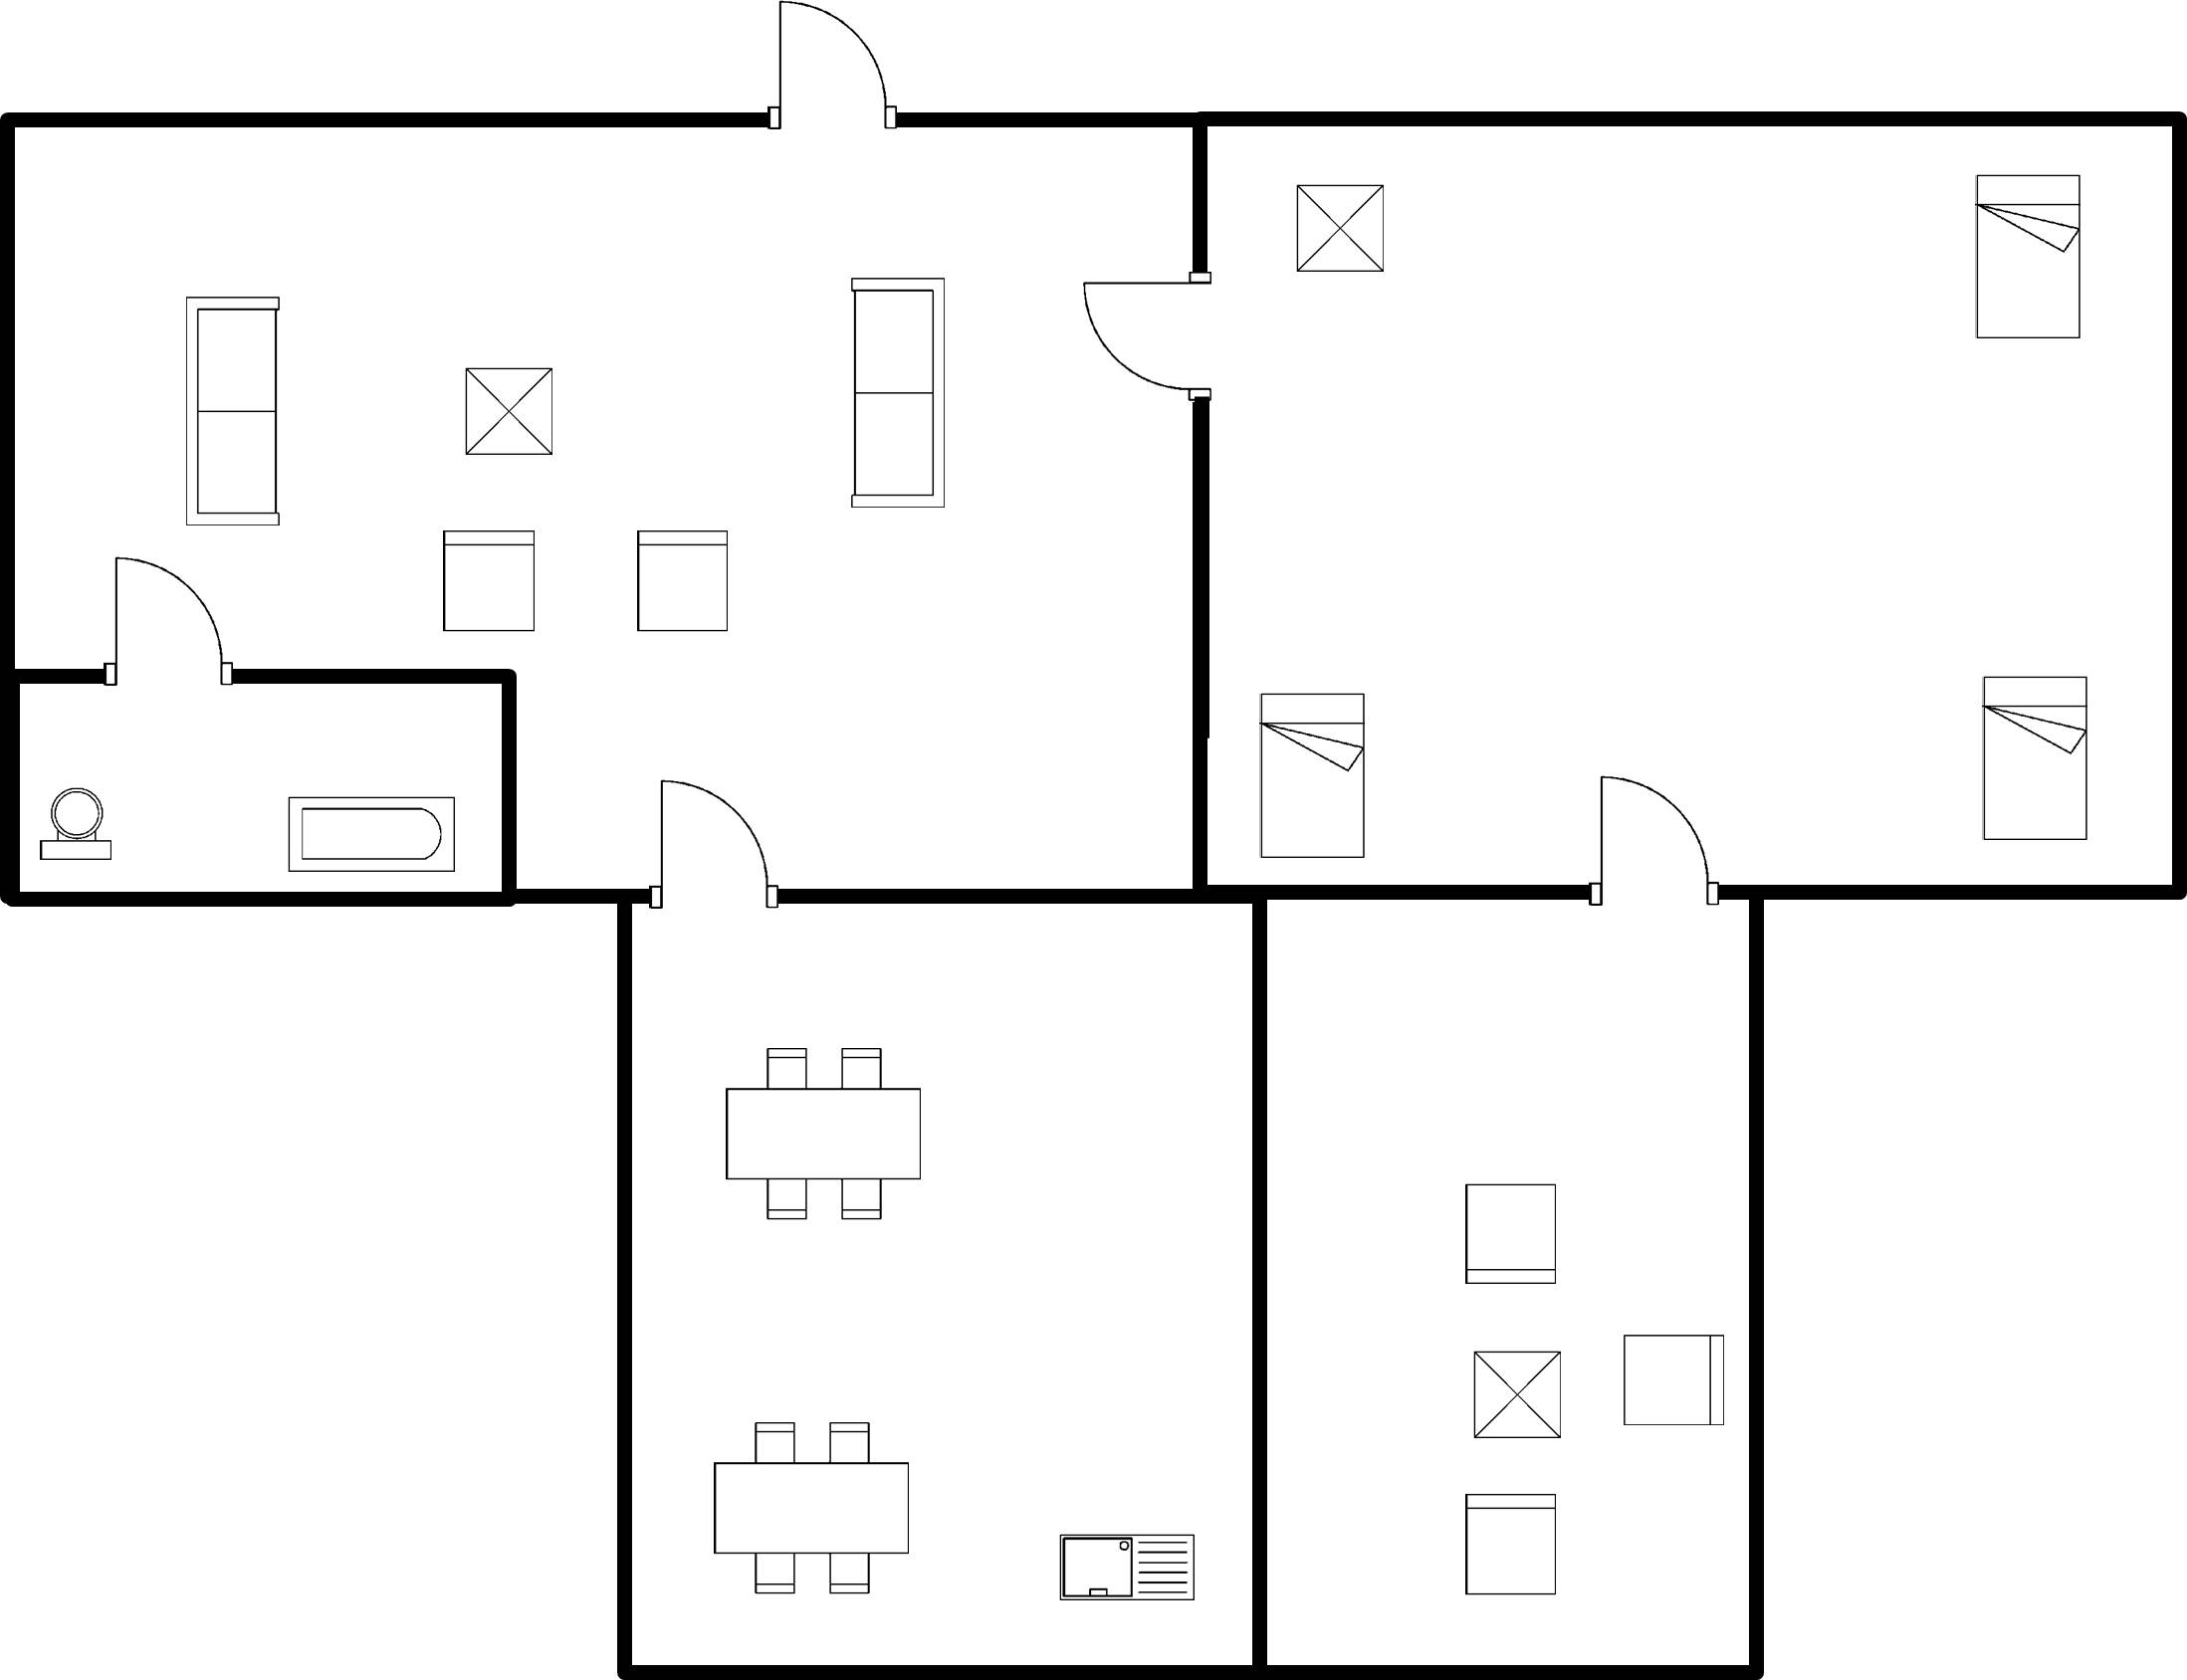bed: (1962, 664, 2107, 856), (1247, 680, 1377, 869), (1964, 166, 2089, 353)
coffee_table: (451, 355, 570, 468), (1283, 176, 1396, 286), (1461, 1341, 1572, 1450)
dining_table: (691, 1407, 923, 1606), (709, 1036, 933, 1235)
large_sink: (29, 781, 131, 871)
large_sofa: (173, 284, 301, 536), (836, 267, 959, 521)
sink: (1051, 1524, 1204, 1616)
small_sofa: (433, 514, 546, 649), (1448, 1174, 1571, 1297), (1456, 1483, 1571, 1613), (627, 521, 740, 644), (1617, 1326, 1735, 1439)
tub: (273, 781, 459, 884)
